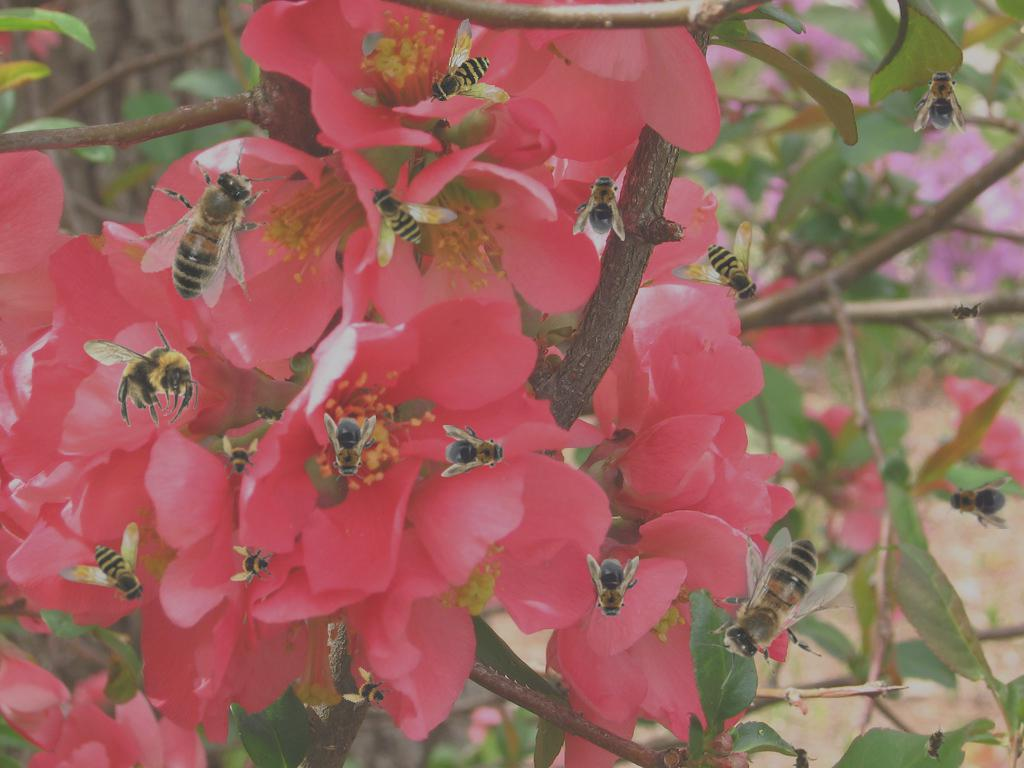Bee: (113, 131, 306, 321), (689, 527, 856, 689), (83, 321, 198, 428), (426, 14, 518, 112), (58, 522, 146, 604), (671, 221, 759, 303), (370, 185, 458, 267), (572, 169, 630, 241), (338, 663, 398, 723), (944, 477, 1012, 529), (914, 66, 966, 134), (587, 554, 639, 622), (324, 413, 376, 481), (441, 425, 509, 477), (216, 435, 260, 479), (230, 544, 274, 588), (246, 396, 292, 430), (919, 721, 953, 767), (945, 301, 985, 323), (790, 742, 812, 768)
